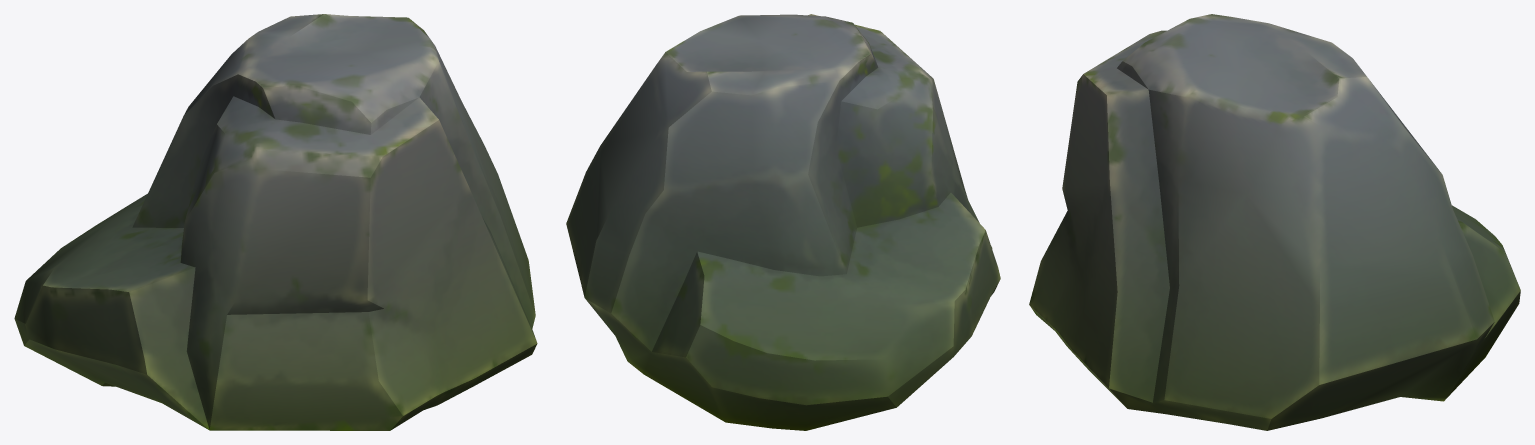
File: Rock_Medium_1.glb
The picture shows the model from 3 angles, left to right: view 1: azimuth 30°, elevation 25°; view 2: azimuth 150°, elevation 25°; view 3: azimuth 270°, elevation 25°; orthographic projection. The views are drawn at different scales.
Parts seen in each view (by area): view 1: Rock_Medium_1; view 2: Rock_Medium_1; view 3: Rock_Medium_1.
Boxes of the visible parts, x1,y1,x2,y2 form: Rock_Medium_1: (14, 14, 537, 430); Rock_Medium_1: (566, 14, 1000, 430); Rock_Medium_1: (1029, 14, 1520, 430).
Size of the model in its own units: 3.23 by 2.26 by 2.99.
1 material, 1 textured.
